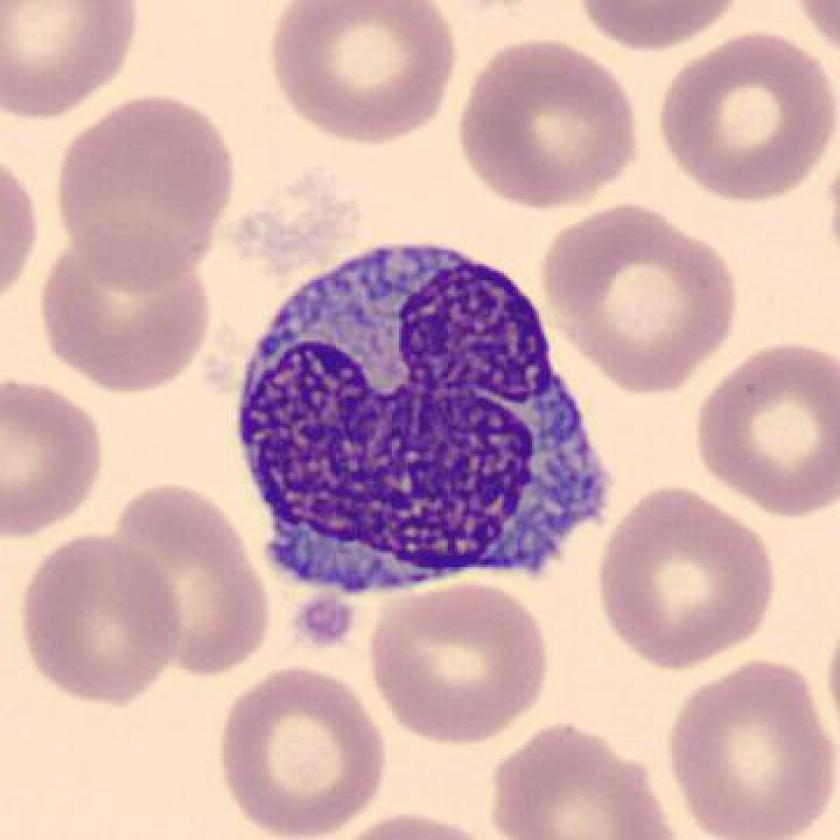monocyte: (225, 221, 626, 630)
